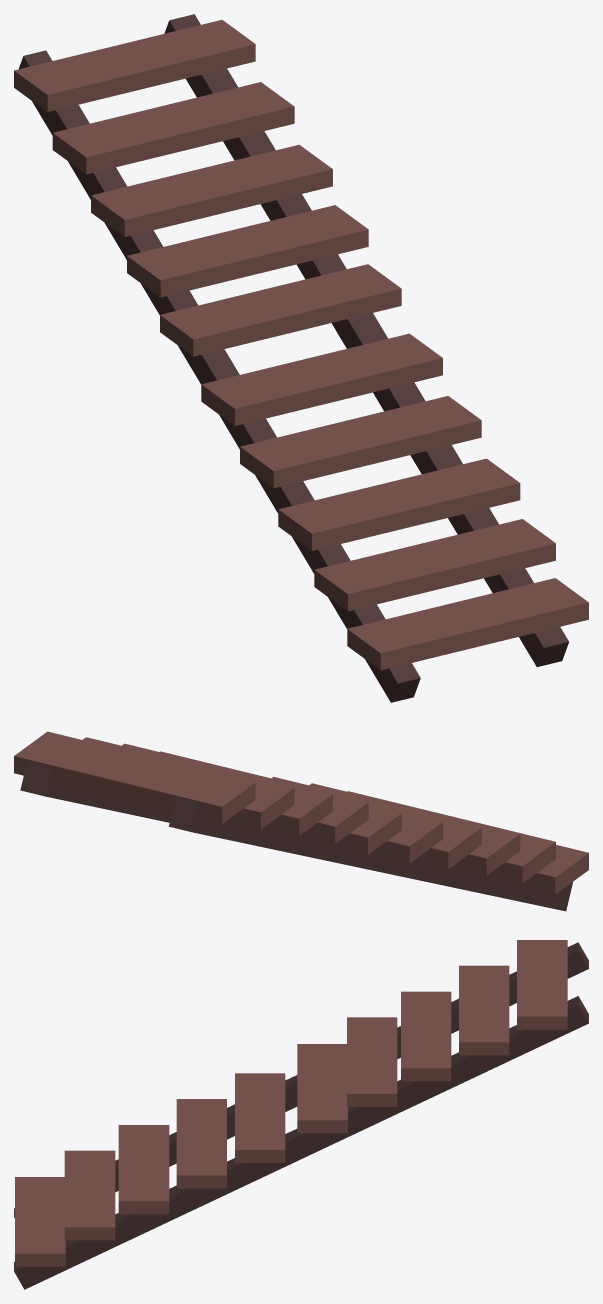
Rendered from LightRoseWoodStepsLargeSteps1.fbx.
3 views of the same model, one above another, from view 1: azimuth 30°, elevation 25°; view 2: azimuth 150°, elevation 25°; view 3: azimuth 270°, elevation 25° (orthographic). The views are drawn at different scales.
Parts seen in each view (by area): view 1: LightRoseWoodStepsLargeSteps1; view 2: LightRoseWoodStepsLargeSteps1; view 3: LightRoseWoodStepsLargeSteps1.
Part boxes in pixels (x1,y1,x2,y2): LightRoseWoodStepsLargeSteps1: (14,14,588,702); LightRoseWoodStepsLargeSteps1: (14,731,588,911); LightRoseWoodStepsLargeSteps1: (14,940,588,1289).
Bounding box in the file's own units: 243 × 422 × 772.
